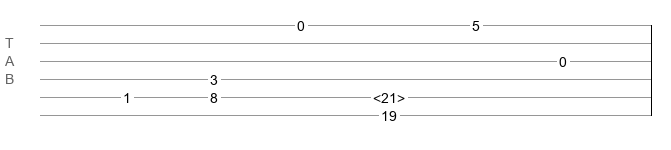0: (297, 18, 305, 28), (559, 54, 567, 64)
1: (123, 90, 131, 100)
19: (381, 108, 397, 118)
3: (210, 72, 218, 82)
5: (472, 18, 480, 28)
8: (210, 90, 218, 100)
harmonic: (373, 90, 405, 100)
